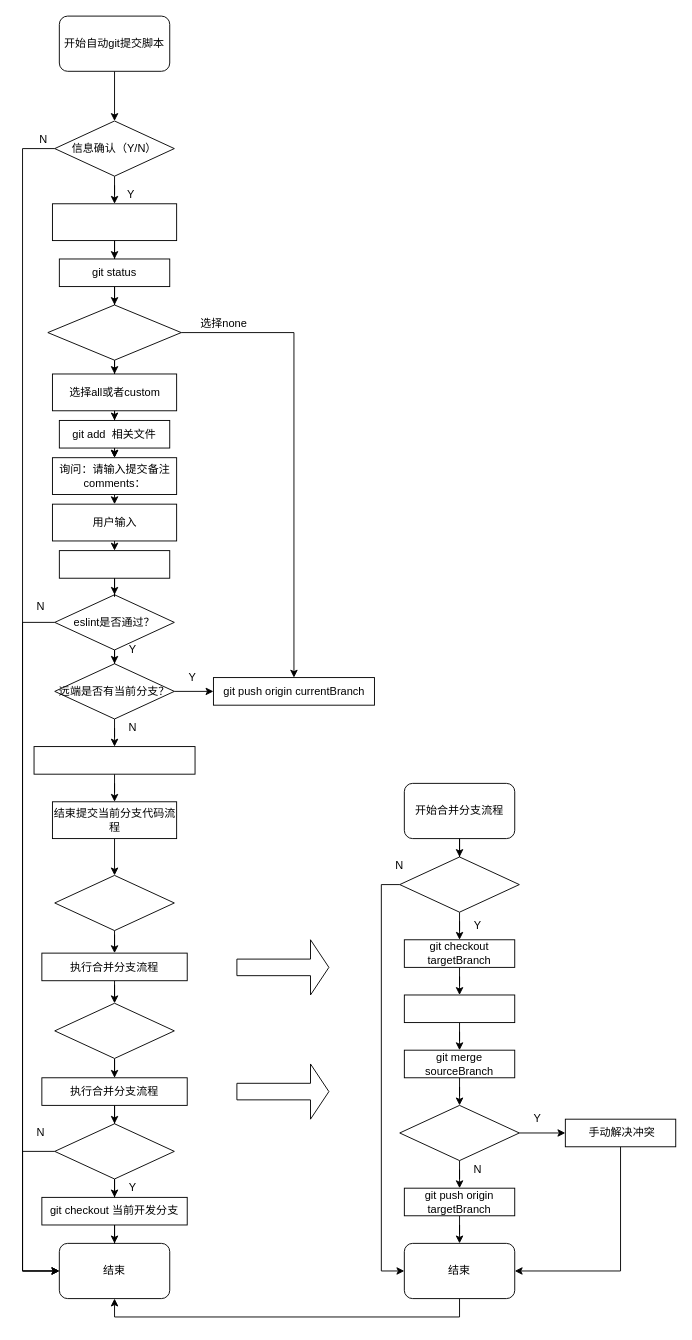
The diagram is 692 pixels wide and 1340 high, and some of its shapes have lost their labels. Here are the shapes that lost their labels. From the top down, the box of each, then its label:
(52, 203, 177, 241): 开始提交当前分支代码流程
(47, 304, 181, 360): 检测到本地有未提交代码，询问：是否提交当前分支的所有改动？（all， none， custom）
(58, 550, 170, 578): git comimit -m "提交的内容"
(33, 746, 195, 774): git push --set-upstream origin currentBranch
(54, 874, 174, 931): 是否有需要合并的target分支？
(399, 856, 519, 912): 是否存在target分支？
(403, 994, 515, 1023): git pull origin targetBranch
(54, 1002, 174, 1058): 是否有需要合并的sit分支？
(54, 1123, 174, 1179): 合并是否成功？
(399, 1104, 519, 1161): 是否存在合并冲突？
